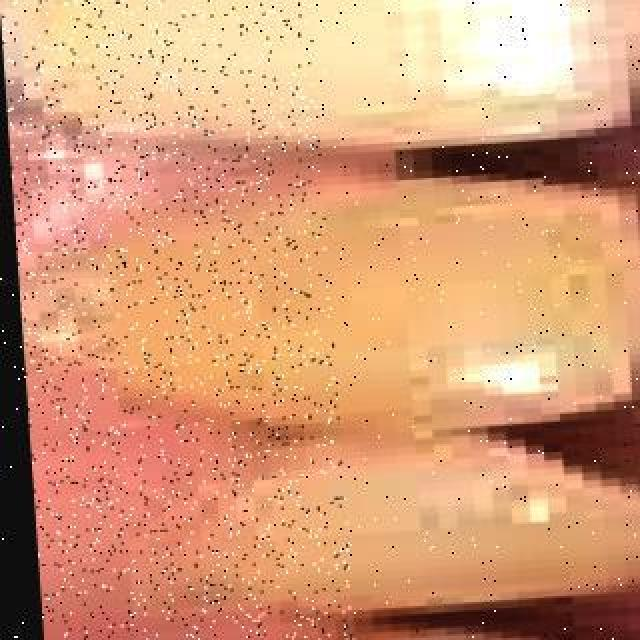spacing: (384, 112, 640, 236), (375, 555, 635, 639)
